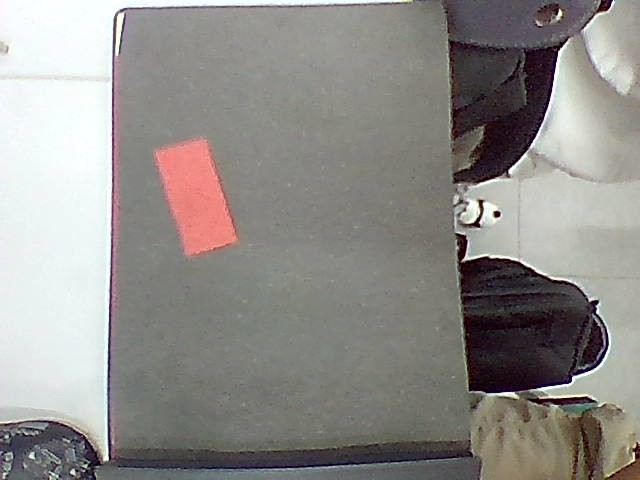card: (156, 139, 236, 255)
